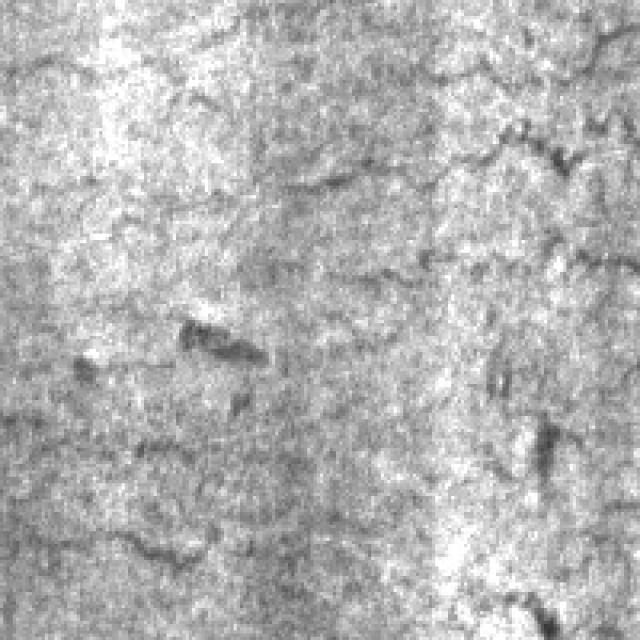crazing: (154, 6, 636, 224), (3, 301, 275, 595)
